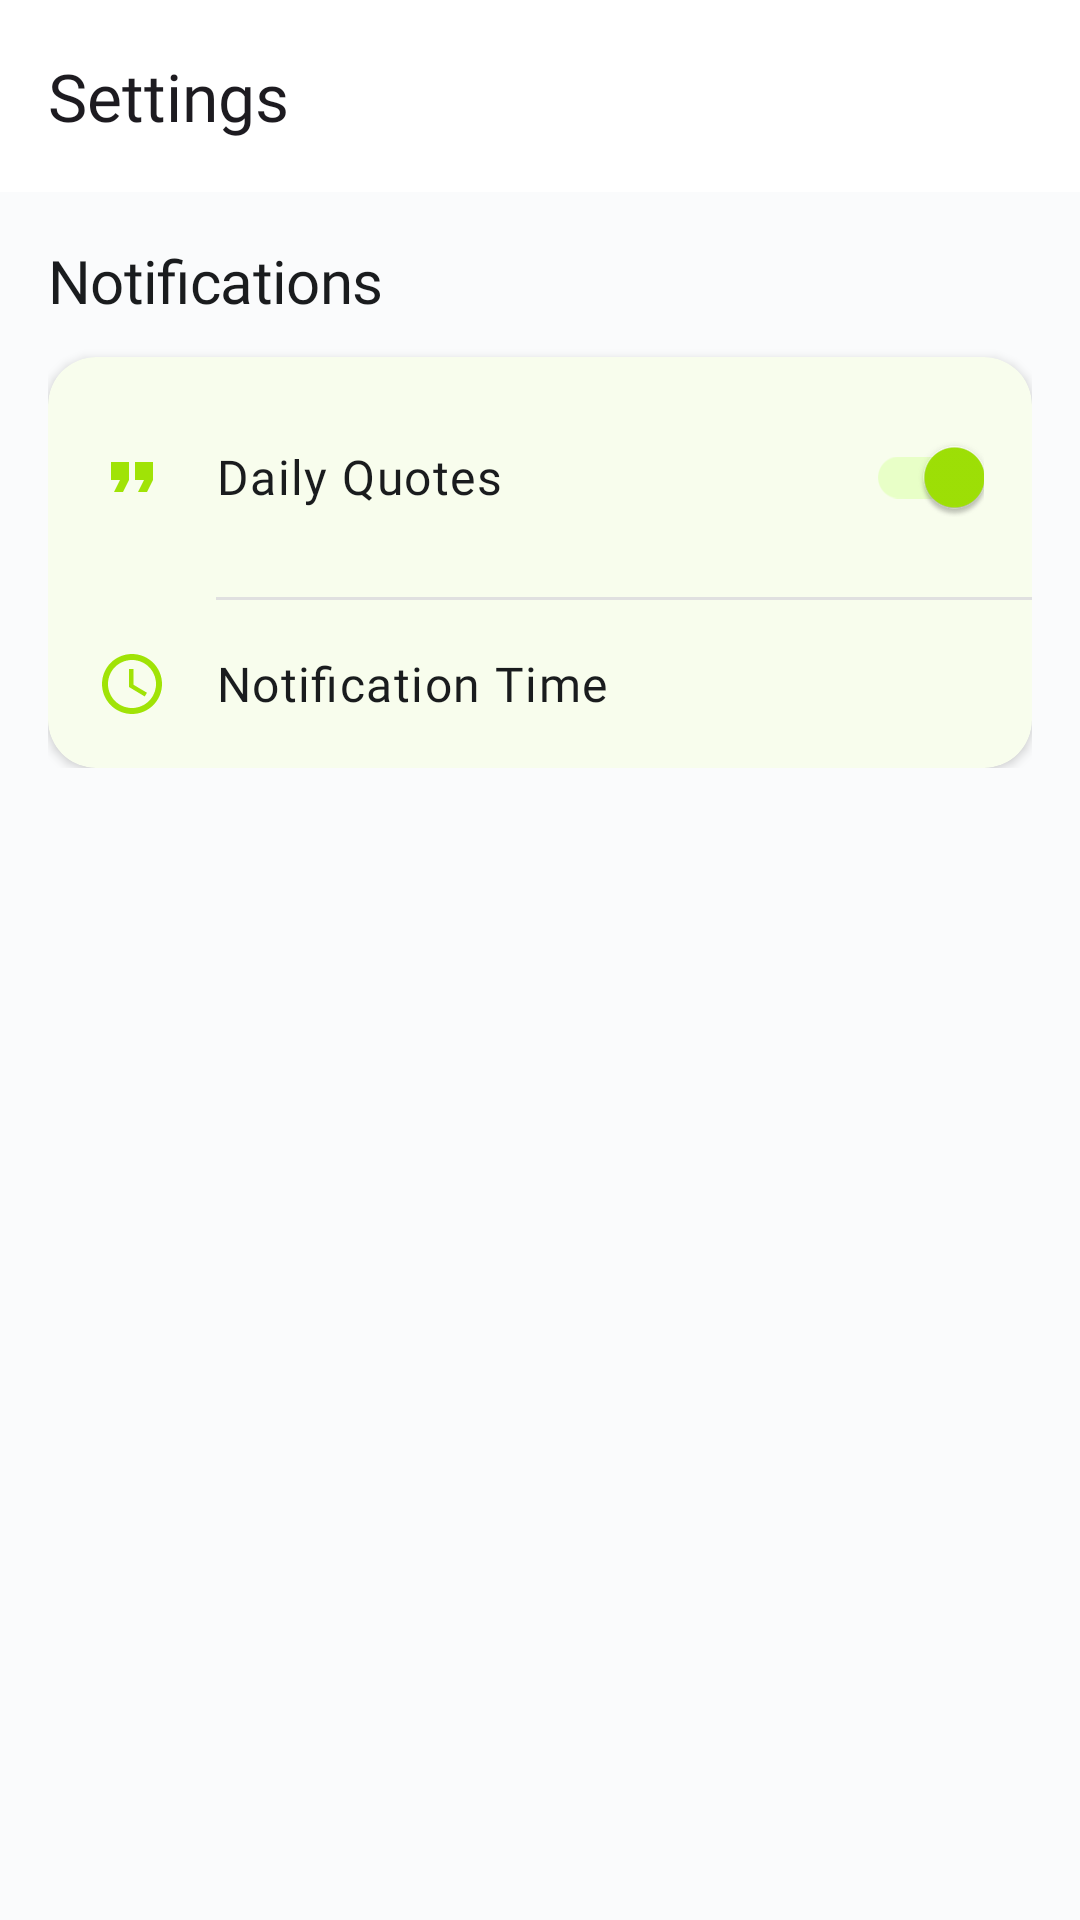

Icon click points for this 1080w x 1920h phone screenshot, format (x,y):
notification quote: (132,477)
schedule: (132,684)
